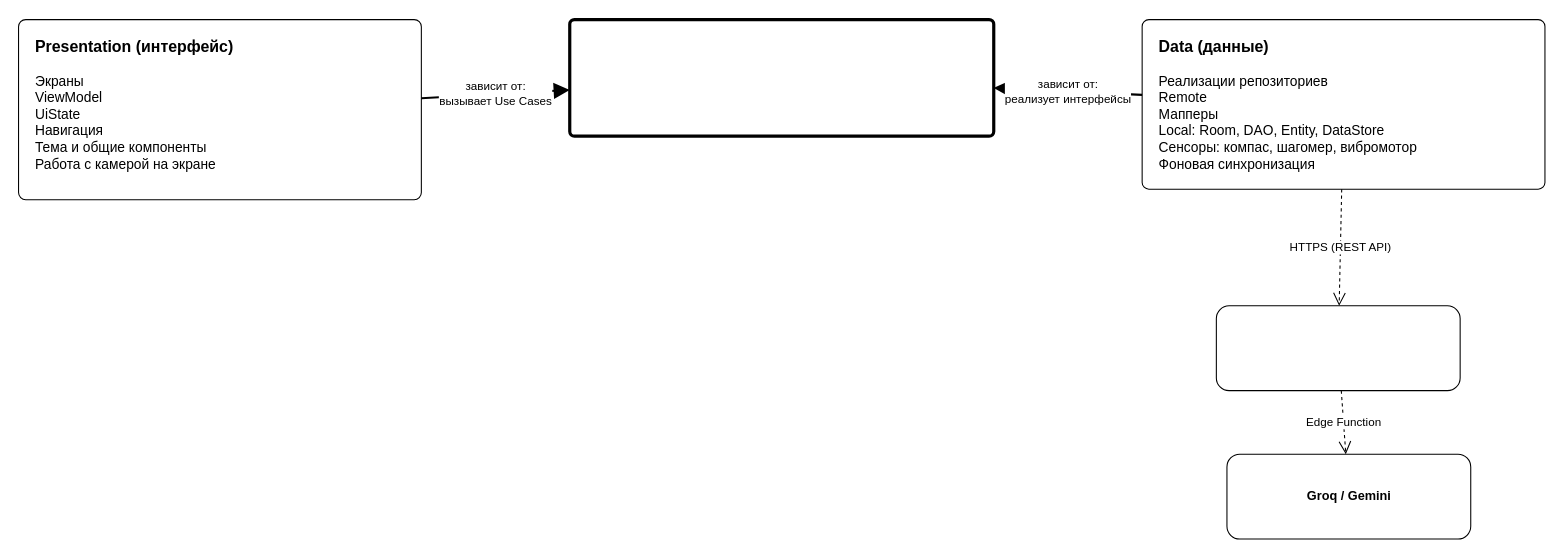
Image size: 1563x558. Some labels were removed from this diagram. Here are the shapes that lost their labels. From the top down, the box of each, then its label:
(568, 17, 995, 137): Domain (игровая логика) Сущности Use Cases Интерфейсы репозиториев
(1215, 305, 1460, 391): Supabase Auth, PostgreSQL, Storage, Edge Functions
